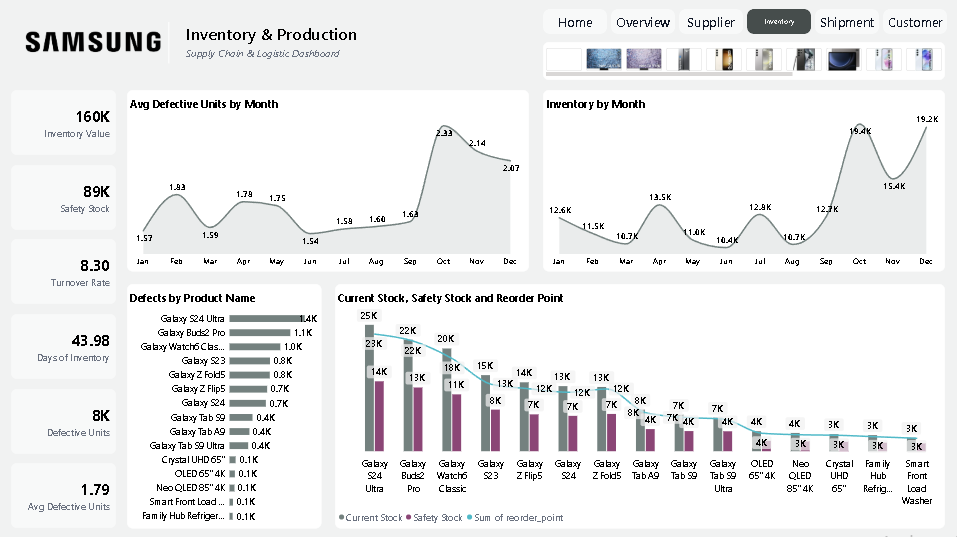

This screenshot's page, from the dashboard's own definition file:
{"tool":"powerbi","page":{"name":"Inventory","canvas":[1920,1080],"ordinal":3},"visuals":[{"type":"image","box":[34,30,300,106],"z":0},{"type":"shape","title":"Inventory & Production","box":[376.1,43.5,393.5,84.8],"z":1000},{"type":"shape","box":[290,43.3,103.3,83.3],"z":2000},{"type":"cardVisual","fields":{"Data":["Measures Table.Safety Stock"]},"box":[26.7,329.9,210,130],"z":3000},{"type":"cardVisual","fields":{"Data":["Measures Table.Turnover Rate"]},"box":[26.7,479,210,130],"z":4000},{"type":"cardVisual","fields":{"Data":["Measures Table.Avg Defective Units"]},"box":[26.1,926.1,210,130.4],"z":5000},{"type":"cardVisual","fields":{"Data":["Measures Table.Inventory Value"]},"box":[26.1,180.4,210,130.4],"z":6000},{"type":"cardVisual","fields":{"Data":["Measures Table.Defective Units"]},"box":[26.7,777,210,130],"z":7000},{"type":"cardVisual","fields":{"Data":["Measures Table.Days of Inventory"]},"box":[26.7,628,210,130],"z":8000},{"type":"lineClusteredColumnComboChart","title":"Current Stock, Safety Stock and Reorder Point","fields":{"Category":["dim_product.product_name"],"Y":["Measures Table.Inventory Value","Measures Table.Safety Stock"],"Y2":["Sum(fact_inventory.reorder_point)"]},"box":[673.9,567.4,1219.6,489.1],"z":9000},{"type":"clusteredBarChart","title":"Defects by Product Name","fields":{"Category":["dim_product.product_name"],"Y":["Measures Table.Defect Rate"]},"box":[258.7,567.4,389.1,489.1],"z":10000},{"type":"areaChart","title":"Avg Defective Units by Month","fields":{"Category":["dim_date.Month_short"],"Y":["Measures Table.Avg Defective Units"]},"box":[258.7,180.4,804.3,363],"z":11000},{"type":"areaChart","title":"Inventory by Month","fields":{"Category":["dim_date.Month_short"],"Y":["Measures Table.Inventory Value"]},"box":[1089.1,180.4,804.3,363],"z":12000},{"type":"advancedSlicerVisual","fields":{"Values":["dim_product.product_name"]},"box":[1089.1,84.8,804.3,76.1],"z":13000},{"type":"pageNavigator","box":[1089.1,17.4,808.7,50],"z":14000}]}

Visuals, with their boxes in screenshot pixels (x1, y1, x2, y2), scaled from the page's 1920x1080 canvas onto the 957x537 screenshot:
image: <bbox>17, 15, 166, 68</bbox>
"Inventory & Production" shape: <bbox>187, 22, 384, 64</bbox>
shape: <bbox>145, 22, 196, 63</bbox>
cardVisual - Measures Table.Safety Stock: <bbox>13, 164, 118, 229</bbox>
cardVisual - Measures Table.Turnover Rate: <bbox>13, 238, 118, 303</bbox>
cardVisual - Measures Table.Avg Defective Units: <bbox>13, 460, 118, 525</bbox>
cardVisual - Measures Table.Inventory Value: <bbox>13, 90, 118, 155</bbox>
cardVisual - Measures Table.Defective Units: <bbox>13, 386, 118, 451</bbox>
cardVisual - Measures Table.Days of Inventory: <bbox>13, 312, 118, 377</bbox>
"Current Stock, Safety Stock and Reorder Point" lineClusteredColumnComboChart: <bbox>336, 282, 944, 525</bbox>
"Defects by Product Name" clusteredBarChart: <bbox>129, 282, 323, 525</bbox>
"Avg Defective Units by Month" areaChart: <bbox>129, 90, 530, 270</bbox>
"Inventory by Month" areaChart: <bbox>543, 90, 944, 270</bbox>
advancedSlicerVisual - dim_product.product_name: <bbox>543, 42, 944, 80</bbox>
pageNavigator: <bbox>543, 9, 946, 34</bbox>
